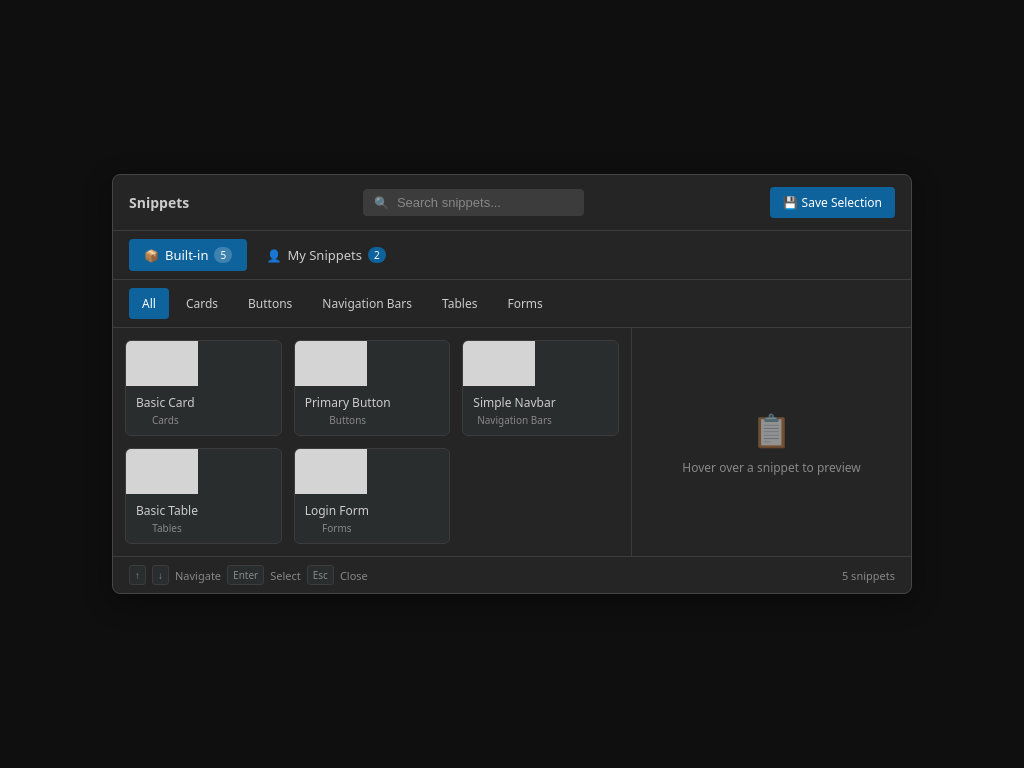
Test: SnippetSelector.vue › User Snippets › should display user snippets when switching to My Snippets tab
Click on My Snippets tab
Click the tab with class "tab-btn" showing "👤 My Snippets 2": (326, 255) [251,239,401,271]
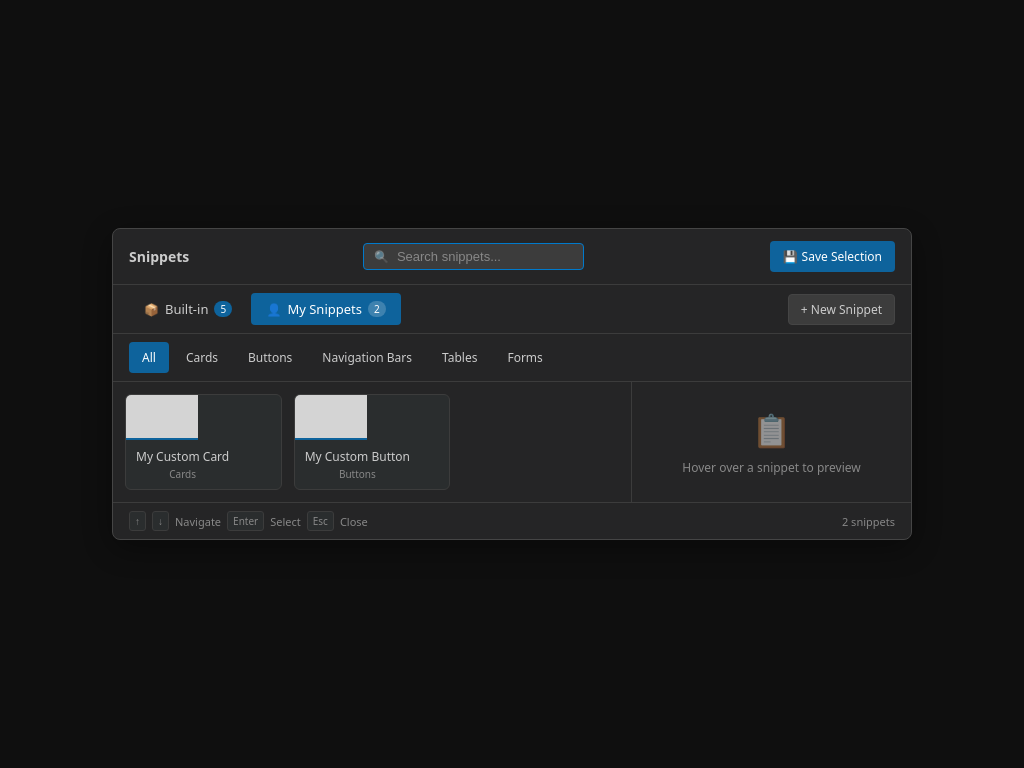
expect the number of options with class "snippet-item" is 2: met, box [125,394,282,490]; [294,394,450,490]
